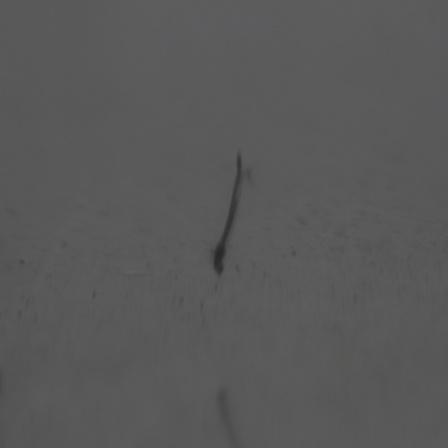Jentik-Nyamuk: (205, 145, 250, 282)
